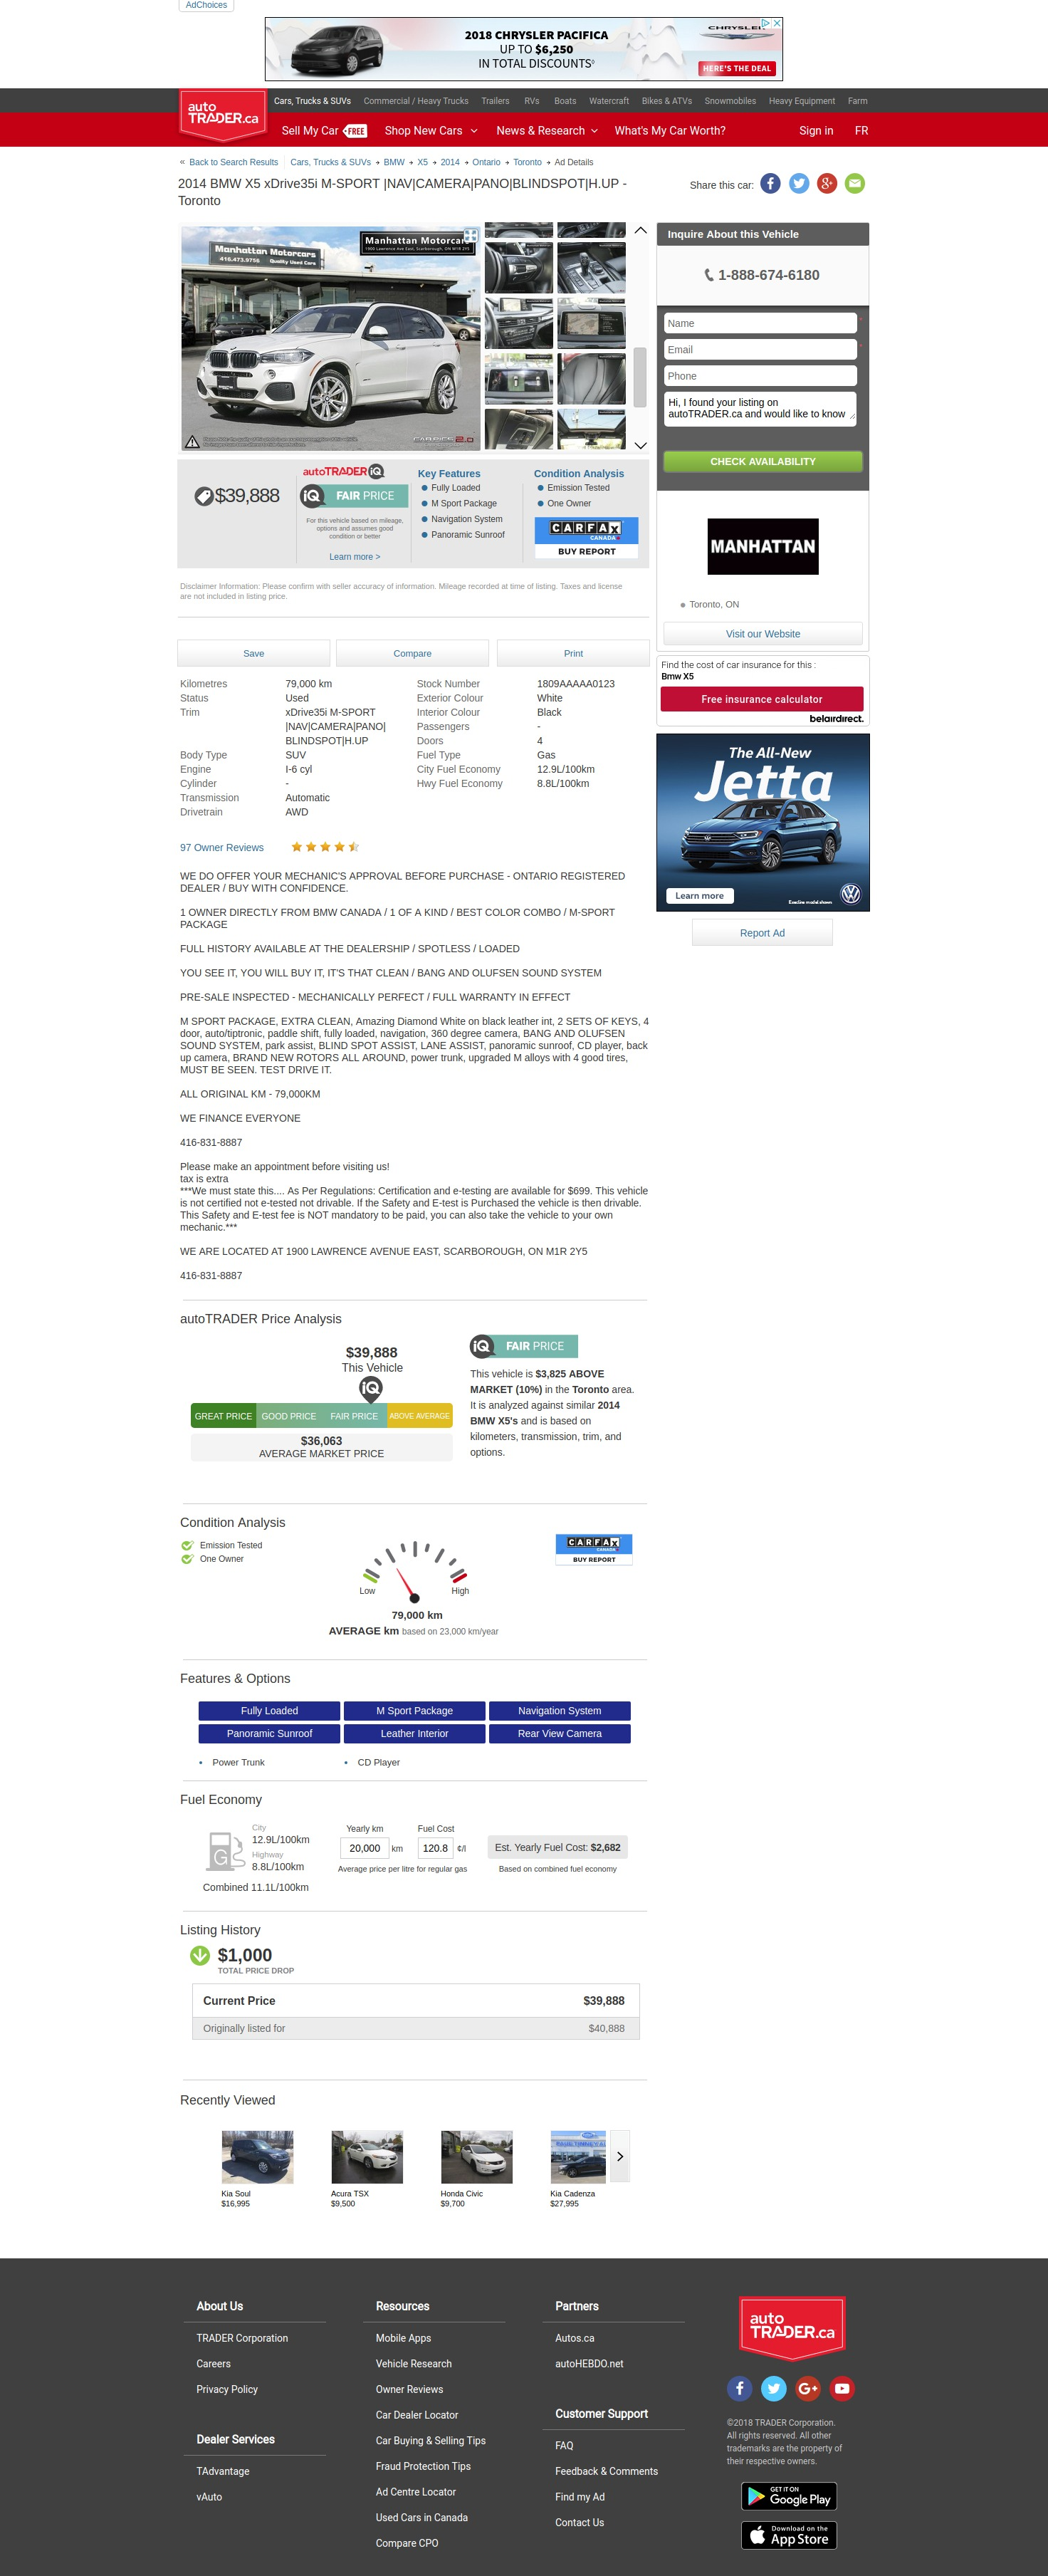car: (634, 442, 649, 450)
